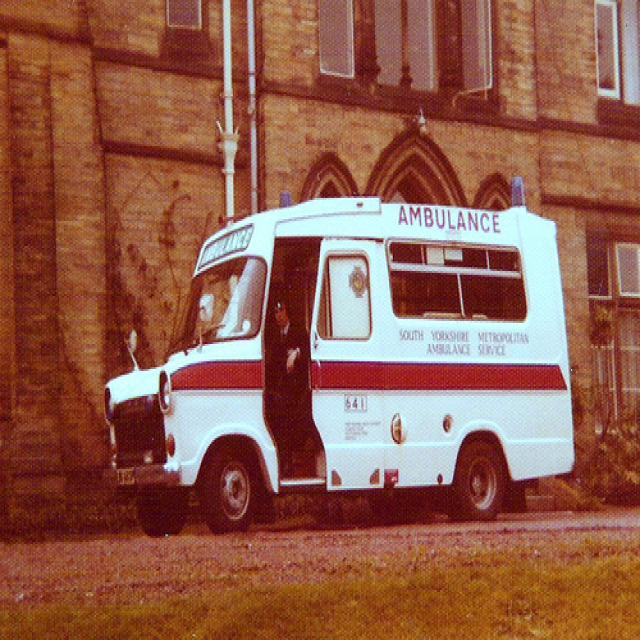emergency-vehicle: (105, 196, 571, 519)
